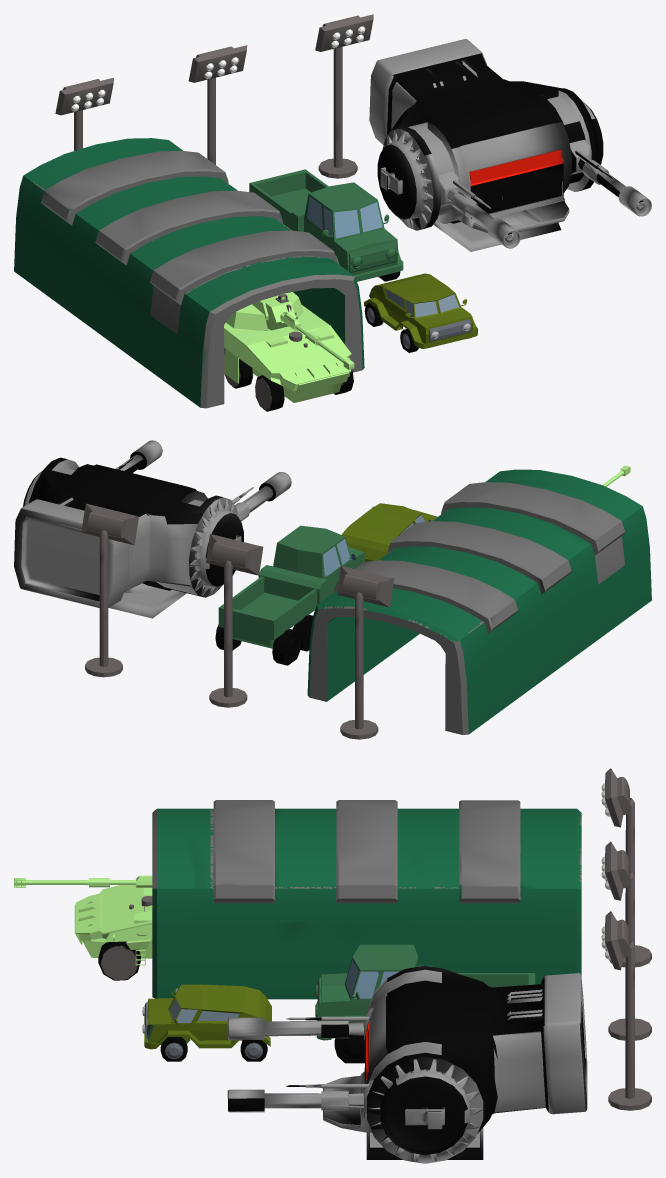
File: BaseMilitar.fbx
3 views of the same model, one above another, from view 1: azimuth 30°, elevation 25°; view 2: azimuth 150°, elevation 25°; view 3: azimuth 270°, elevation 25° (orthographic). The views are drawn at different scales.
Parts seen in each view (by area): view 1: Hangar, Cañon Humanos, Tanque, Green Truck, Green Car, Poste de luz.001, Poste de luz, Poste de luz.002; view 2: Hangar, Cañon Humanos, Green Truck, Poste de luz.001, Poste de luz, Poste de luz.002, Green Car; view 3: Hangar, Cañon Humanos, Green Car, Tanque, Green Truck, Poste de luz.001, Poste de luz, Poste de luz.002.
Part boxes in pixels (bbox=[...]): Hangar: bbox=[14, 138, 364, 408]; Cañon Humanos: bbox=[369, 39, 651, 251]; Tanque: bbox=[224, 292, 354, 411]; Green Truck: bbox=[249, 169, 403, 281]; Green Car: bbox=[364, 273, 477, 352]; Poste de luz.001: bbox=[315, 14, 373, 178]; Poste de luz: bbox=[188, 45, 247, 164]; Poste de luz.002: bbox=[55, 77, 113, 150]; Hangar: bbox=[307, 469, 651, 734]; Cañon Humanos: bbox=[14, 440, 291, 618]; Green Truck: bbox=[215, 525, 364, 665]; Poste de luz.001: bbox=[81, 503, 138, 677]; Poste de luz: bbox=[205, 534, 263, 707]; Poste de luz.002: bbox=[336, 566, 394, 739]; Green Car: bbox=[341, 503, 437, 561]; Hangar: bbox=[152, 800, 581, 999]; Cañon Humanos: bbox=[227, 965, 587, 1163]; Green Car: bbox=[142, 984, 271, 1061]; Tanque: bbox=[14, 875, 152, 980]; Green Truck: bbox=[315, 944, 535, 1063]; Poste de luz.001: bbox=[601, 911, 651, 1110]; Poste de luz: bbox=[601, 841, 651, 1040]; Poste de luz.002: bbox=[601, 768, 651, 967].
Size of the model in its own units: 2023 by 591 by 1937.
